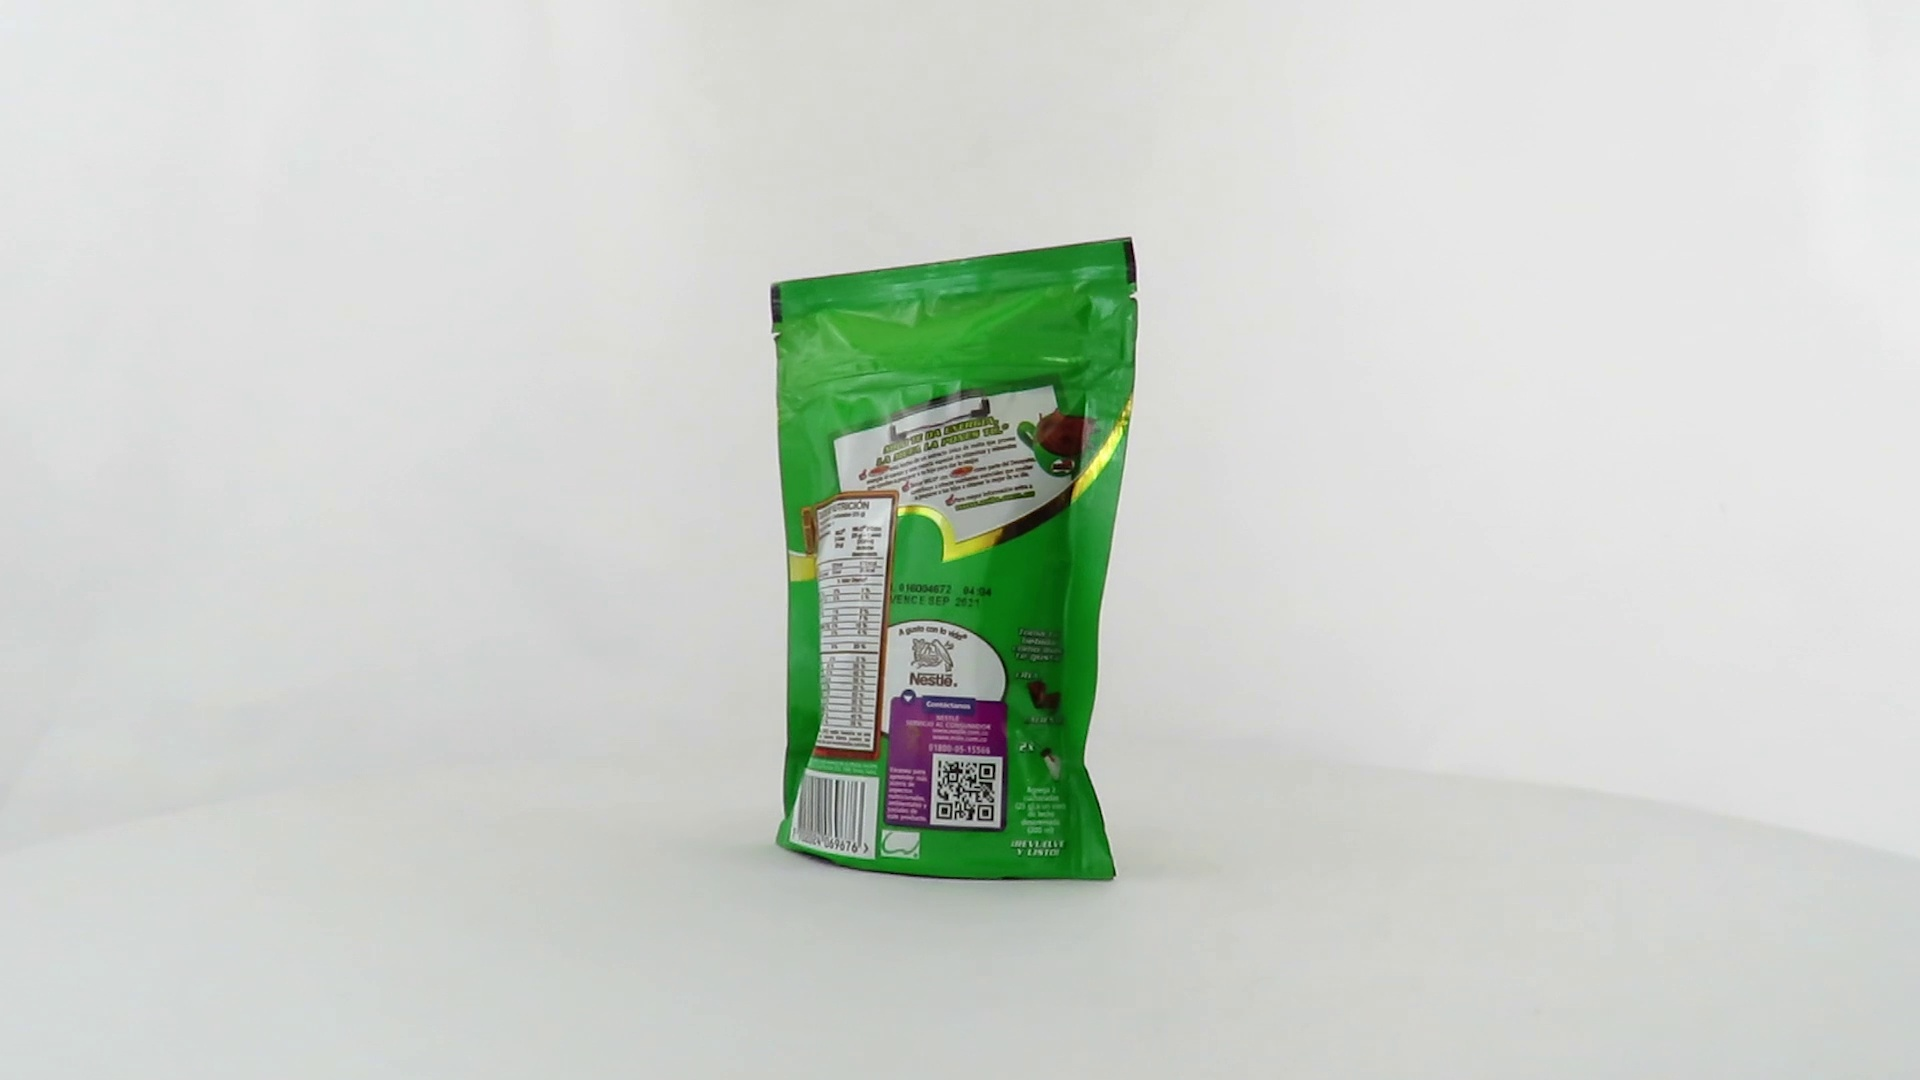COL0170203DYP10000: (746, 231, 1145, 887)
